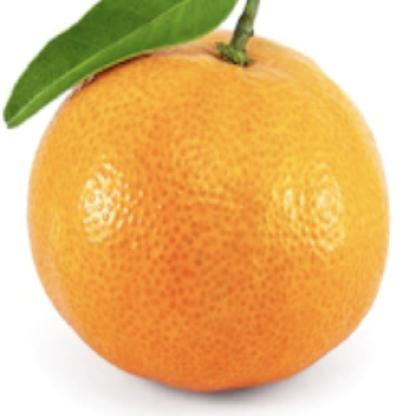fresh: (29, 23, 388, 397)
